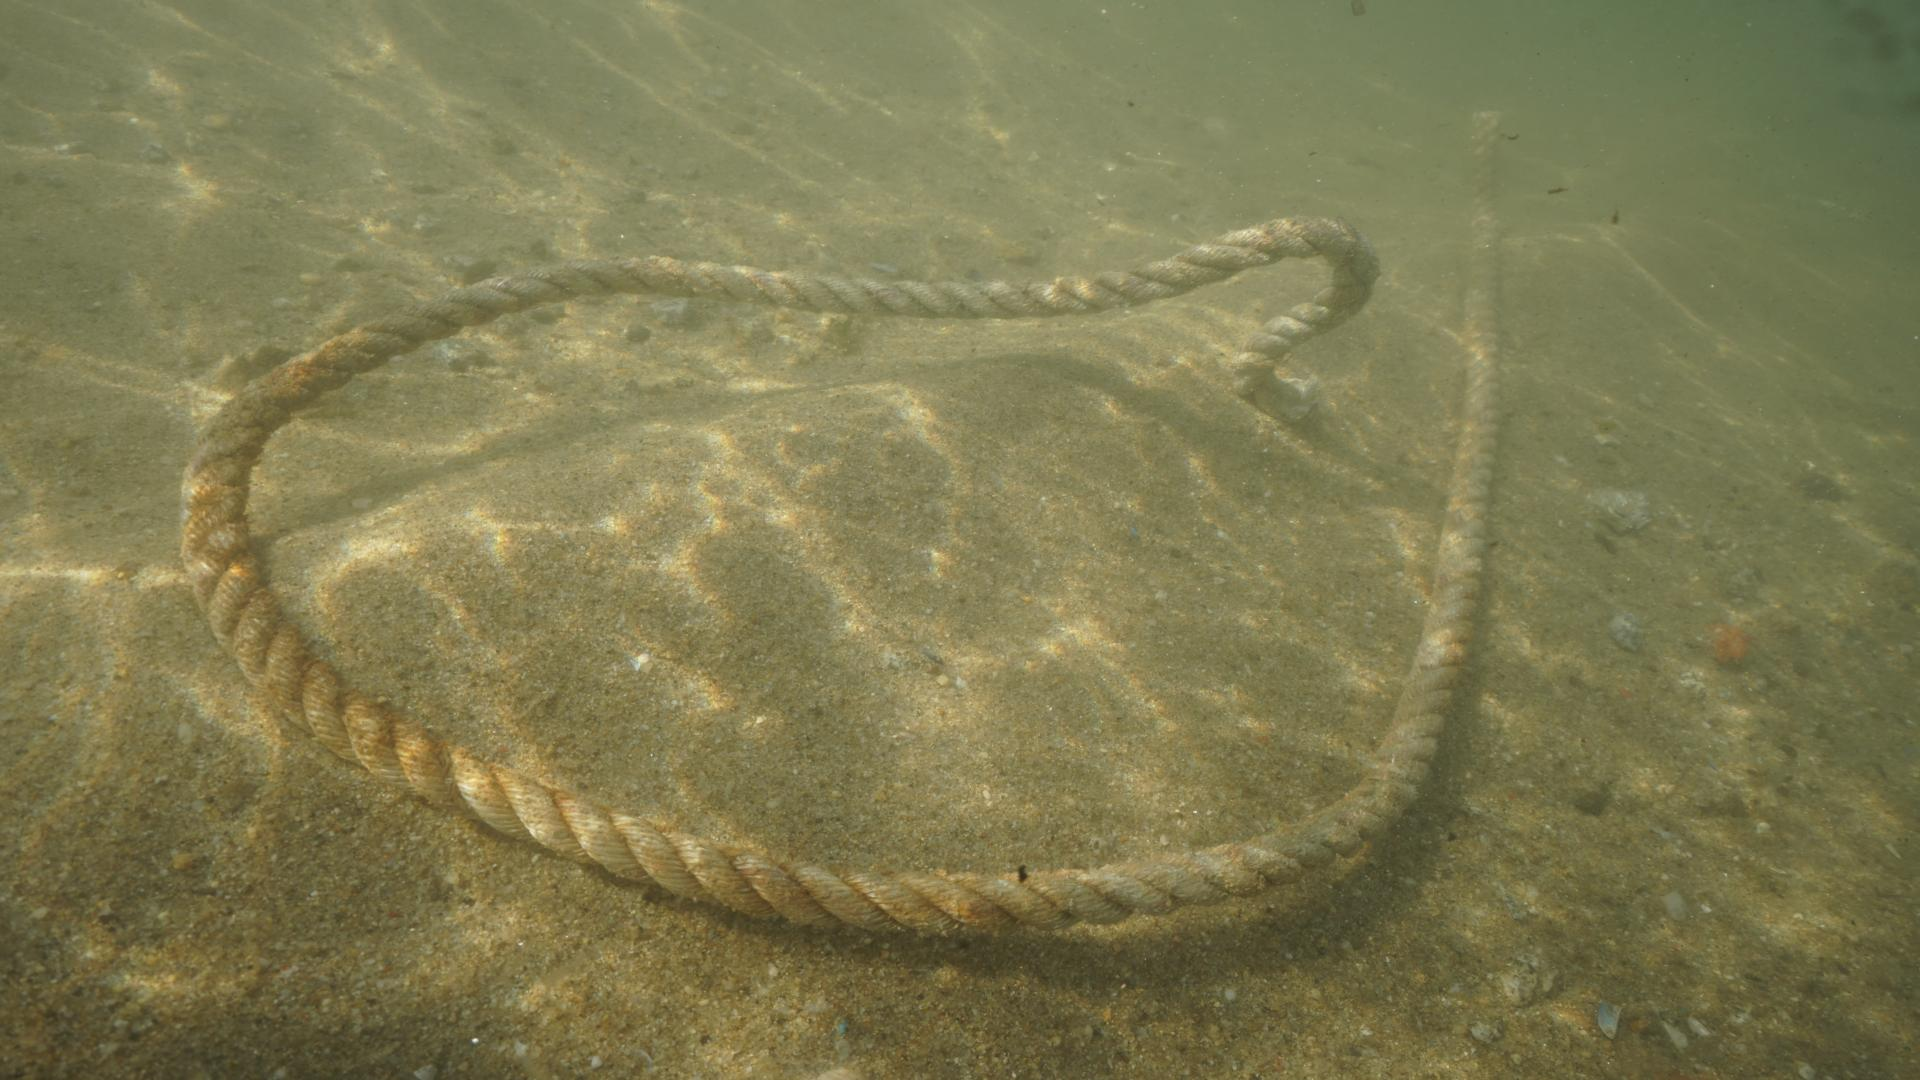rope: (182, 105, 1513, 942)
